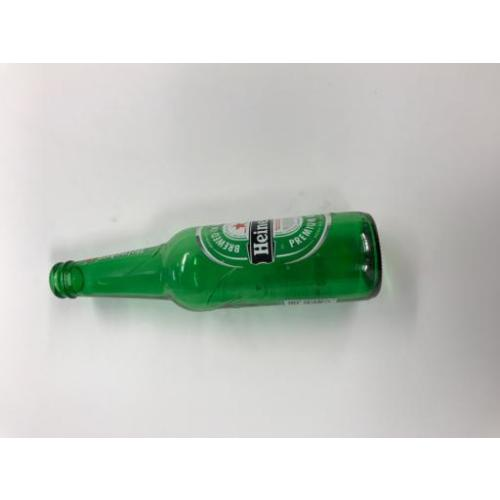glass: (51, 212, 382, 313)
